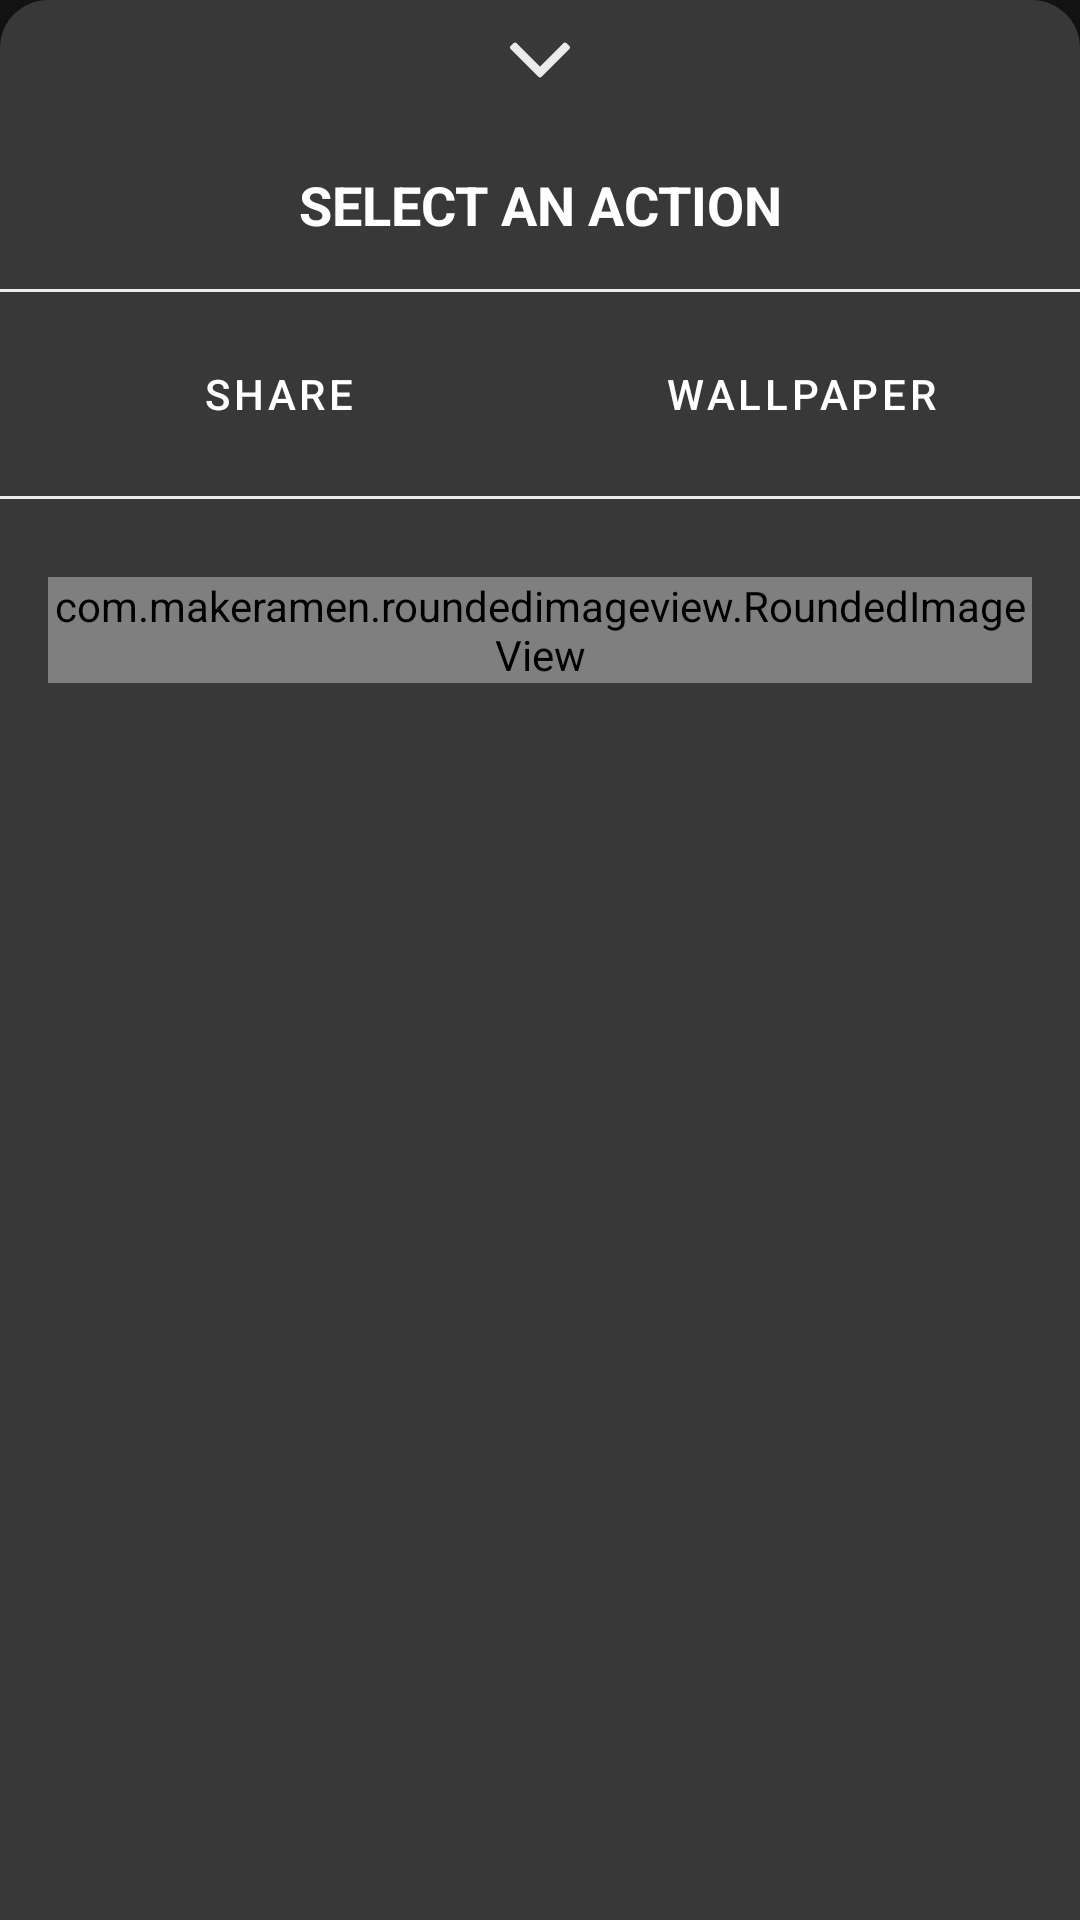

Screen size 1080w x 1920h. Icon name, then its box in pixels as box=[x1, y1, x2, y2]:
bottom arrow: box=[510, 42, 570, 78]
